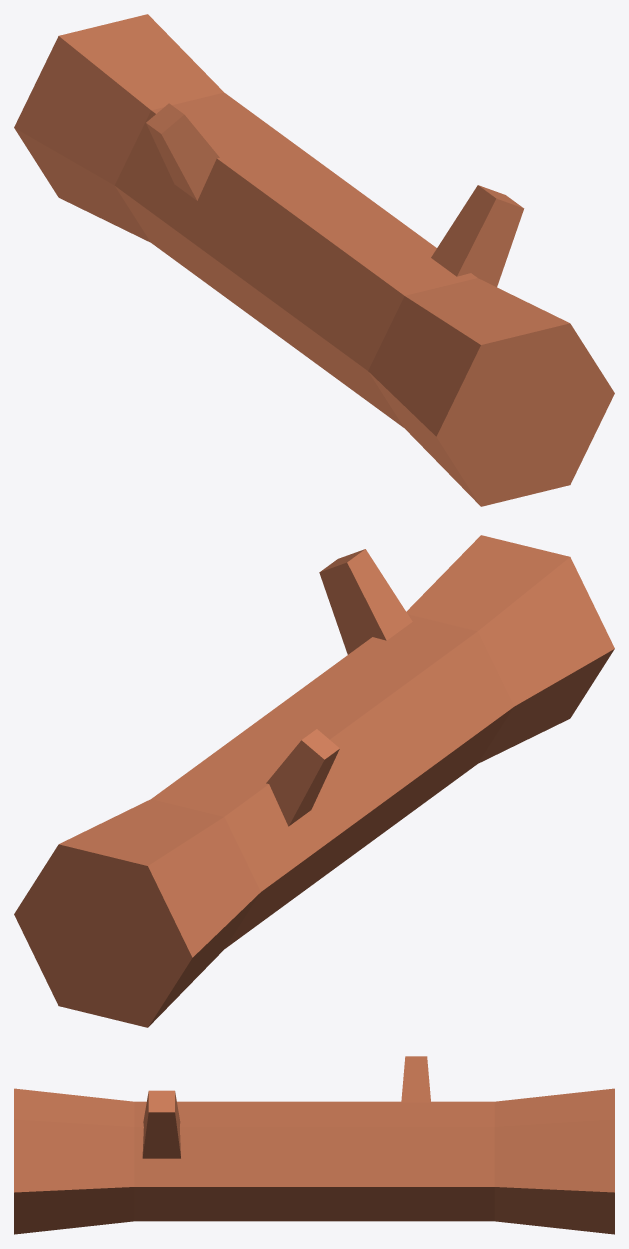
File: tree-log.obj
3 renders of one model, top to bottom at view 1: azimuth 30°, elevation 25°; view 2: azimuth 150°, elevation 25°; view 3: azimuth 270°, elevation 25°, orthographic. The views are drawn at different scales.
Size of the model in its own units: 0.2495 by 0.2771 by 1.
